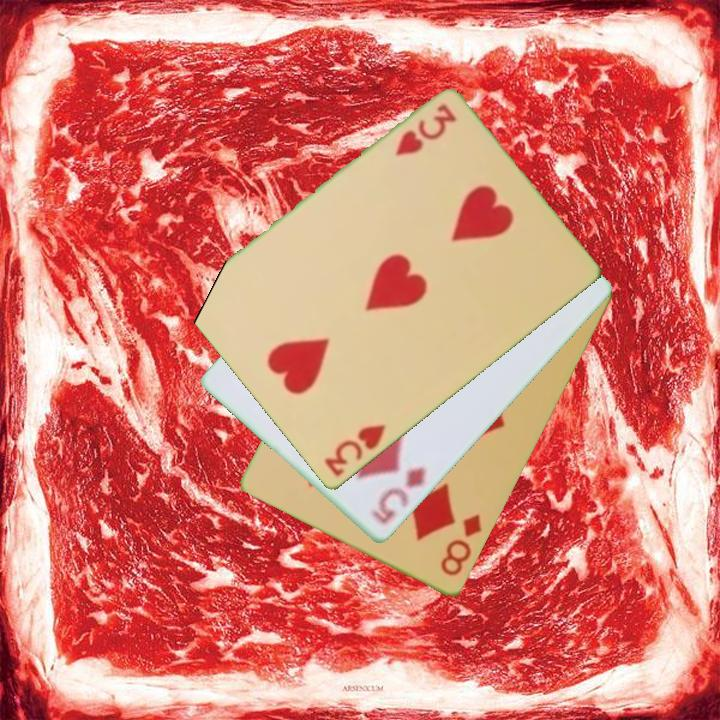3h: (391, 100, 460, 160), (320, 421, 389, 480)
5d: (367, 463, 430, 528)
8d: (437, 511, 485, 580)
